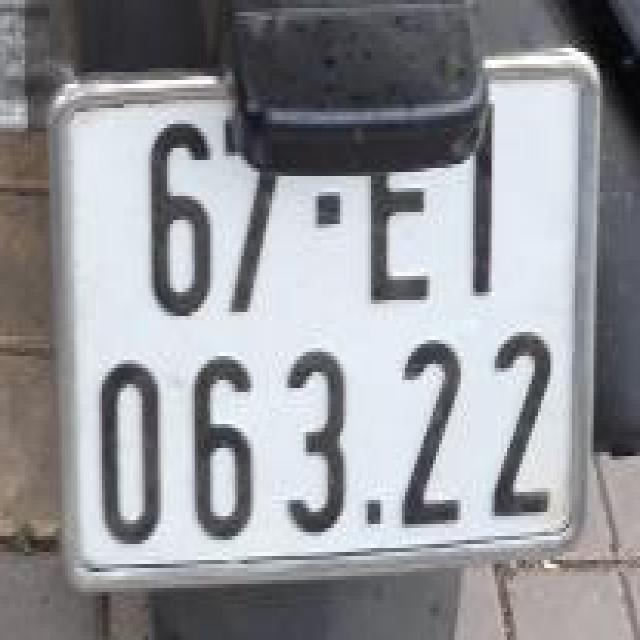0: (94, 344, 181, 556)
1: (442, 70, 516, 310)
2: (478, 312, 580, 544), (386, 322, 470, 538)
3: (281, 322, 359, 542)
6: (185, 340, 269, 580), (135, 98, 221, 318)
7: (218, 88, 298, 320)
E: (348, 80, 443, 312)
